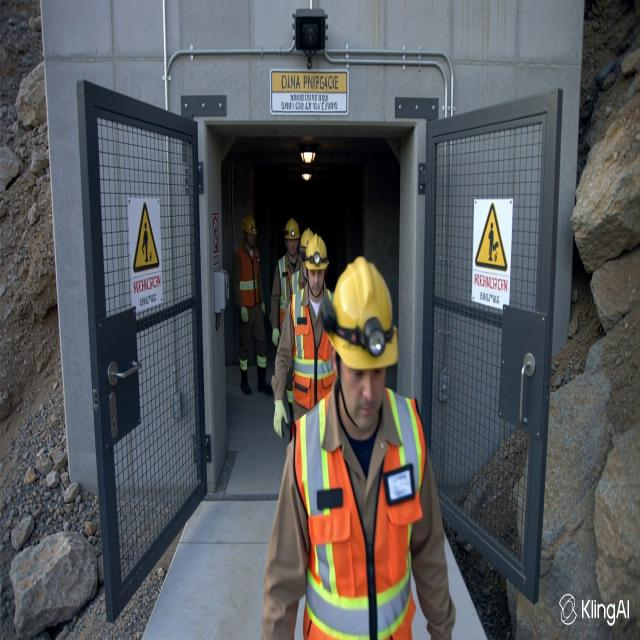Vest: (295, 390, 425, 639), (291, 289, 335, 408), (278, 255, 299, 327), (238, 246, 259, 307)
Worker: (262, 257, 455, 639), (272, 235, 334, 437), (232, 216, 271, 394), (270, 219, 301, 346)
helmet: (322, 257, 397, 369), (305, 235, 328, 270), (299, 228, 313, 261), (284, 219, 299, 239), (242, 216, 256, 235)
